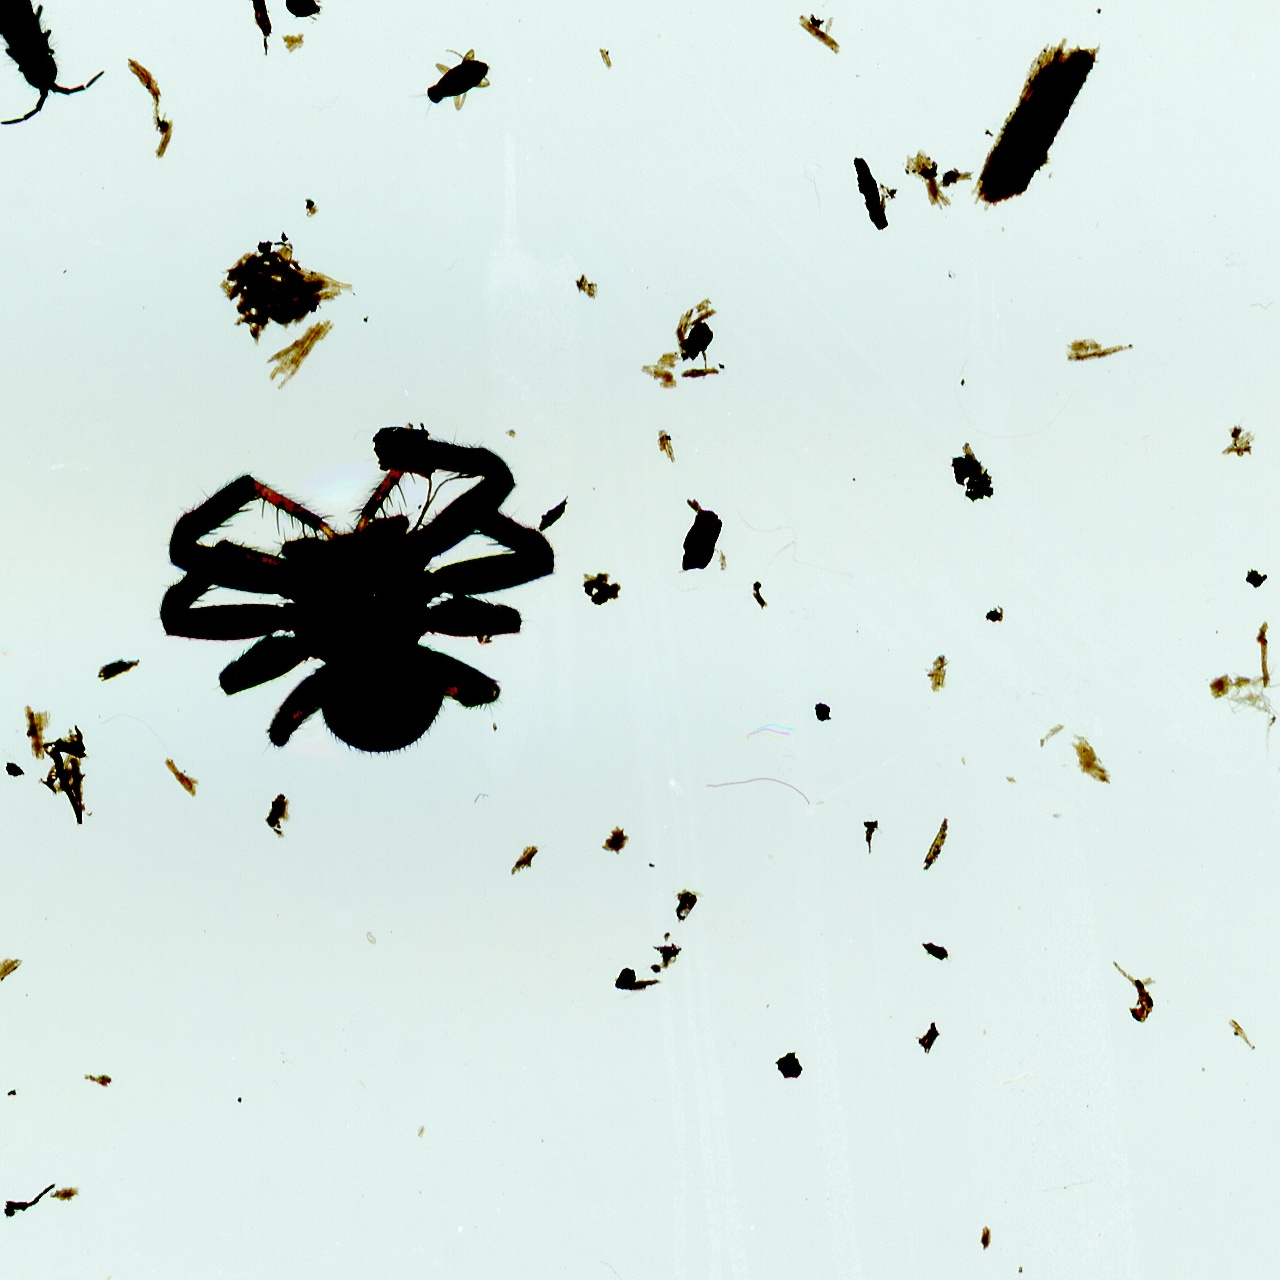arthropod: (113, 379, 607, 812), (0, 0, 114, 138), (388, 28, 508, 139), (283, 0, 324, 24), (479, 57, 487, 61)
